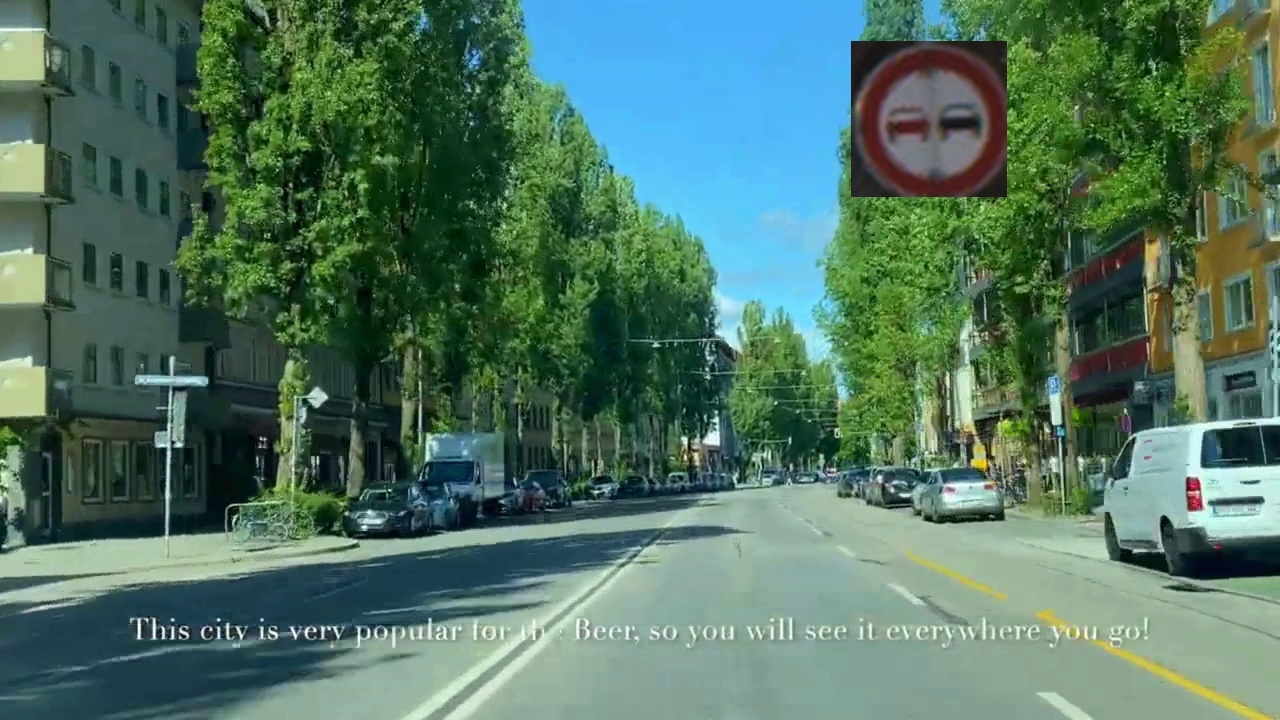No passing: (851, 41, 1007, 197)
